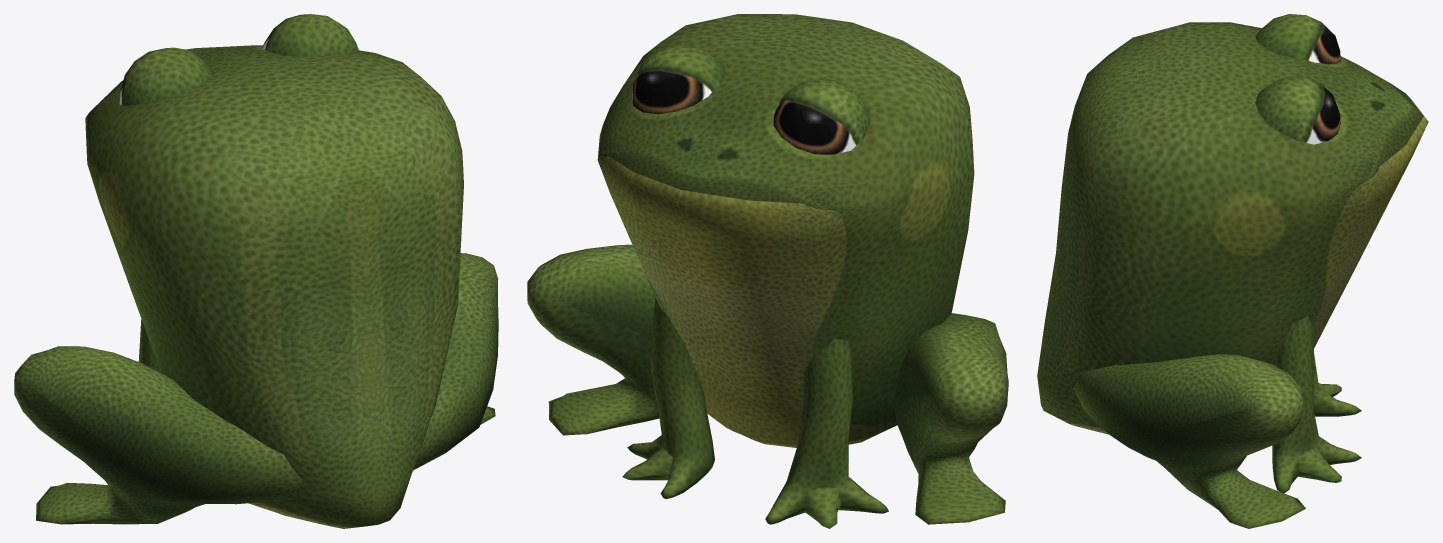
File: CRT0110032.fbx
3 renders of one model, left to right at view 1: azimuth 30°, elevation 25°; view 2: azimuth 150°, elevation 25°; view 3: azimuth 270°, elevation 25°, orthographic. The views are drawn at different scales.
Parts seen in each view (by area): view 1: smCRT0110032; view 2: smCRT0110032; view 3: smCRT0110032.
Part boxes in pixels (<box>): smCRT0110032: <box>14,14,498,528</box>; smCRT0110032: <box>527,14,1008,528</box>; smCRT0110032: <box>1037,14,1428,528</box>.
Bounding box in the file's own units: 10.43 × 8.88 × 8.11.
Materials: 1 (1 with a texture image).
